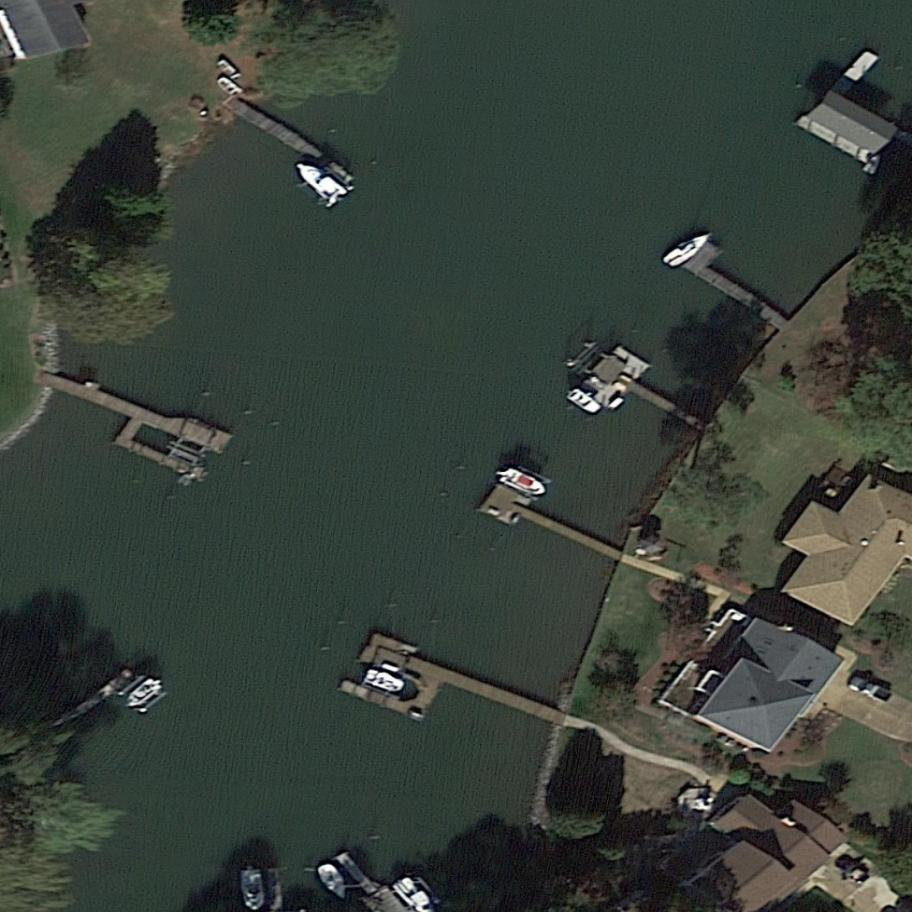ship: (291, 155, 348, 206), (661, 225, 718, 272), (119, 671, 170, 720), (498, 464, 550, 505), (315, 857, 357, 907), (359, 665, 409, 699), (562, 385, 606, 420), (238, 867, 269, 911), (215, 54, 245, 85), (214, 74, 243, 100)
small-vehicle: (845, 672, 897, 709)
